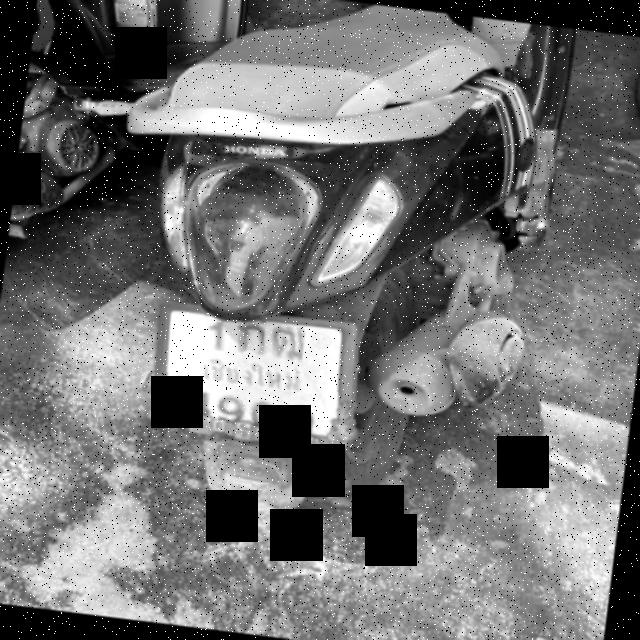letters: (272, 326, 304, 366), (211, 387, 245, 422), (238, 314, 266, 352), (200, 314, 227, 351), (251, 396, 280, 428), (288, 402, 312, 434), (191, 386, 207, 419)
license-plate: (155, 306, 351, 447)
province: (186, 358, 306, 397)
